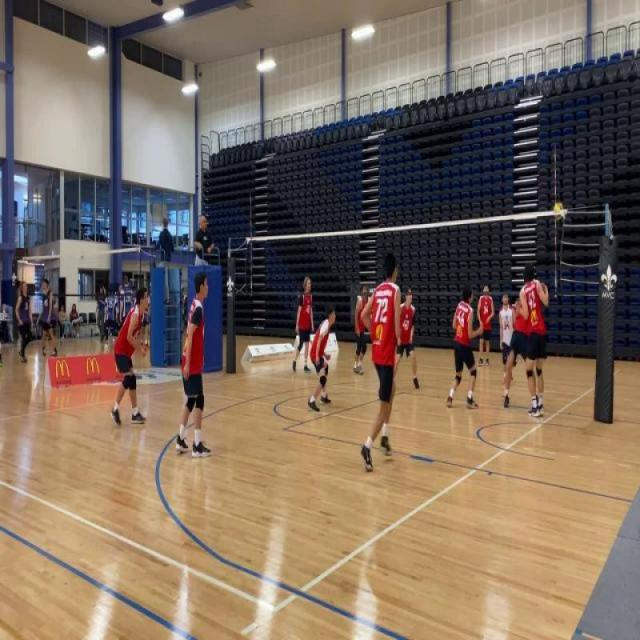volleyball: (552, 200, 564, 218)
